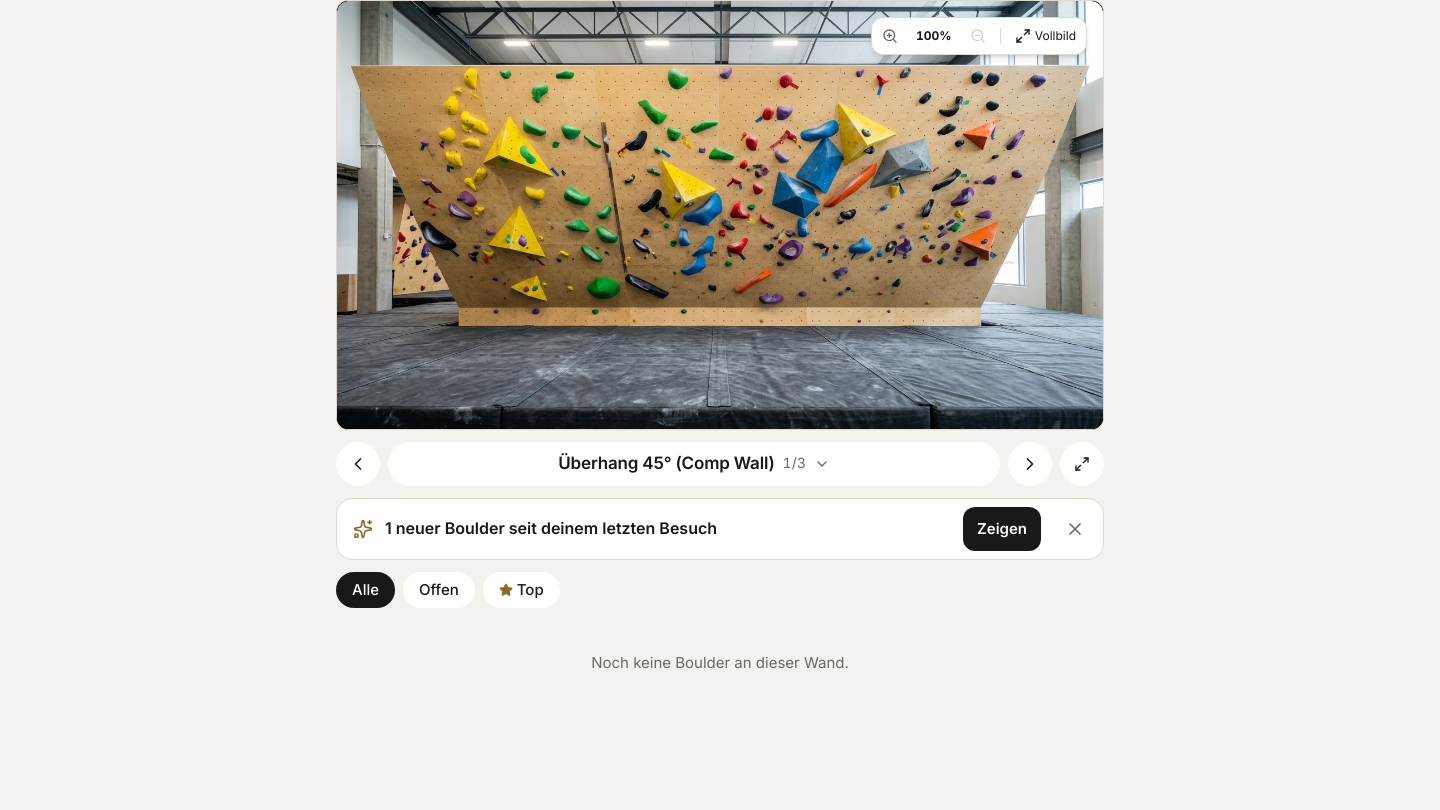
Test case: AC-1 bis AC-3 «Neu seit deinem letzten Besuch» › nächster Besuch: Streifen mit Anzahl, «Zeigen» öffnet die Sektor-Liste mit «1 neu»
expect the text with test id "wall-news-count" reads "1 neuer Boulder seit deinem letzten Besuch": met, box [385,518,717,538]
What coordinates should you click on to do the following:
click the button with test id "wall-news-show"
I would click on:
 (1002, 528)
Its box is [963,506,1041,550].
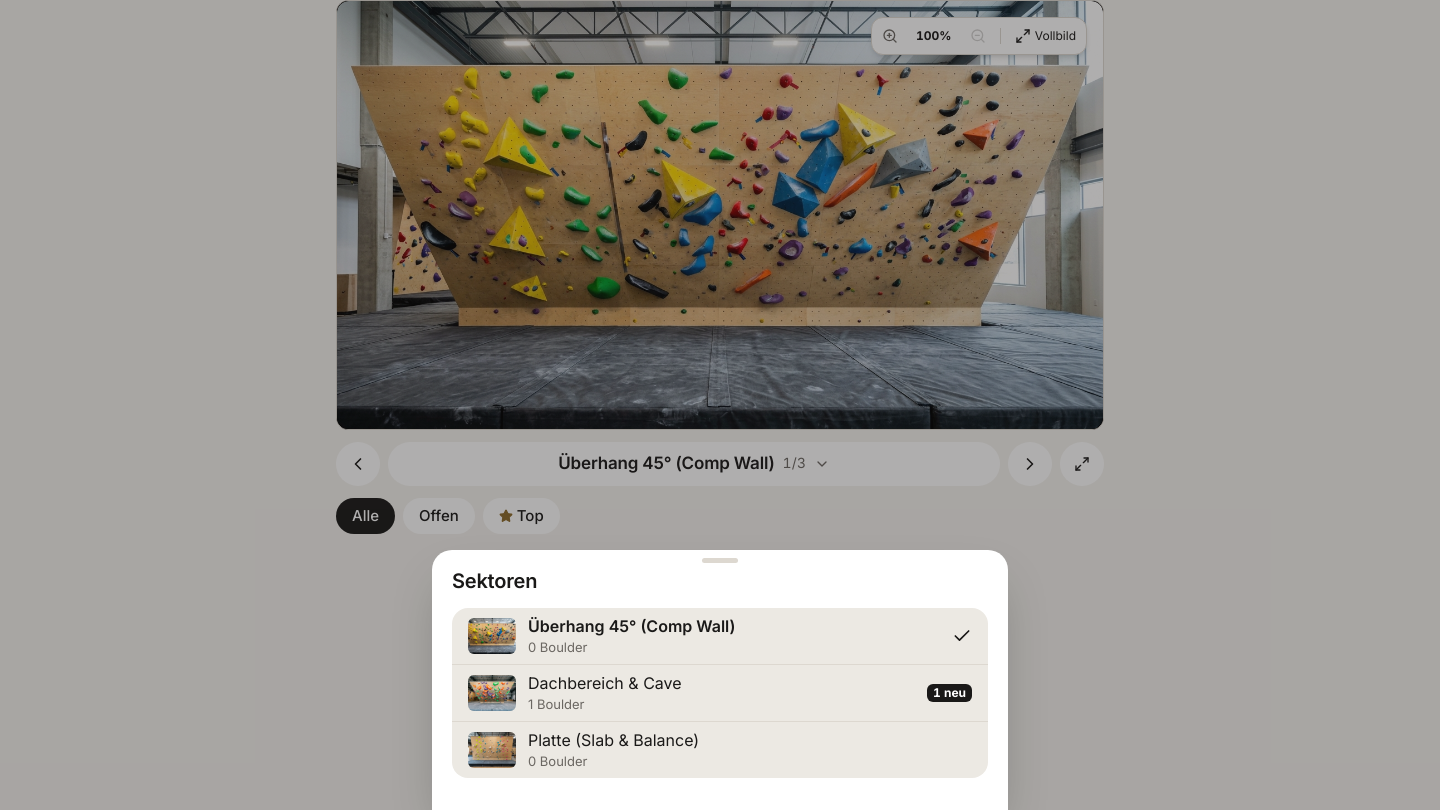
expect the message with test id "wall-news-banner" is gone: met
